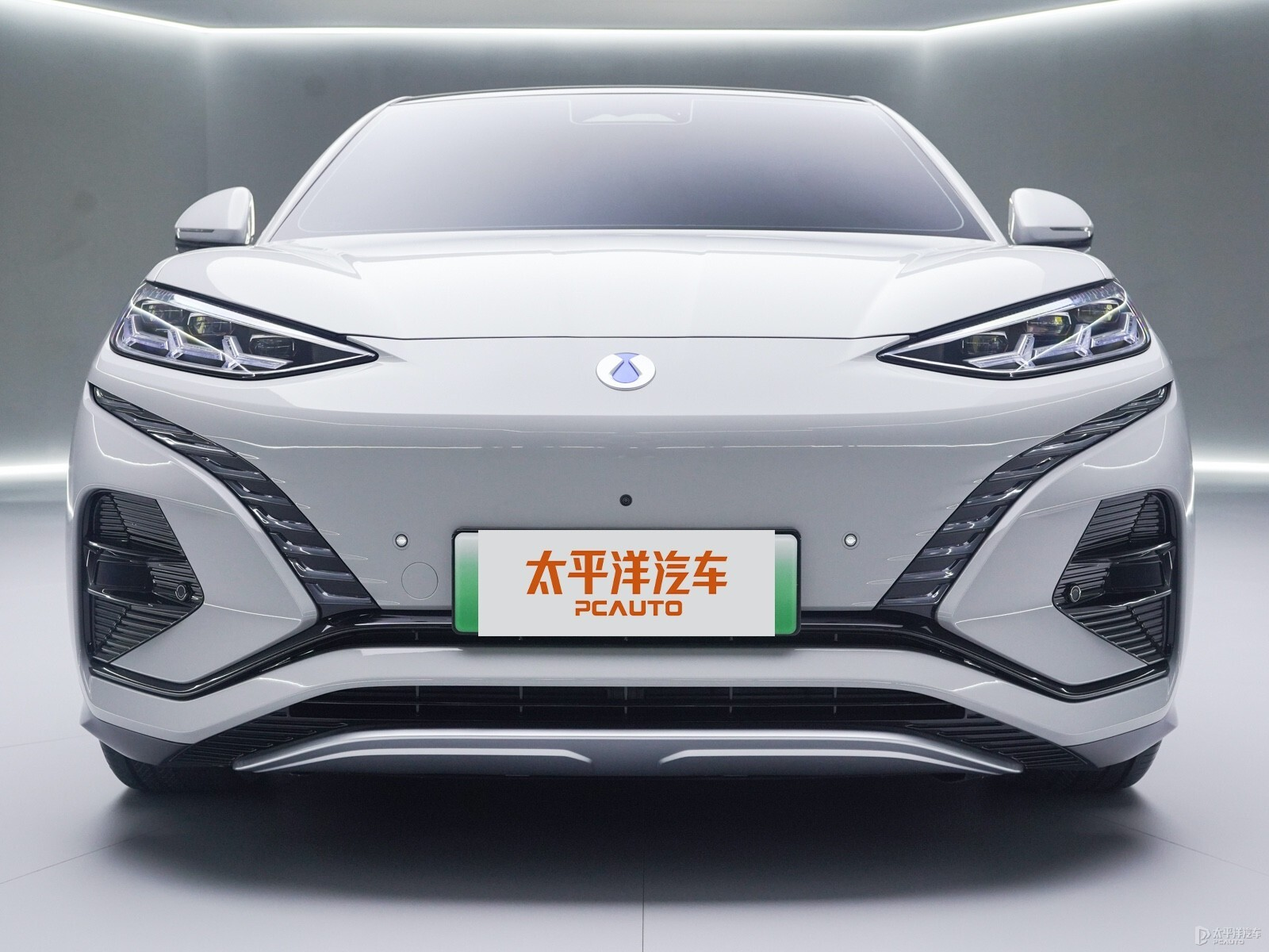DENZA: (596, 352, 656, 390)
